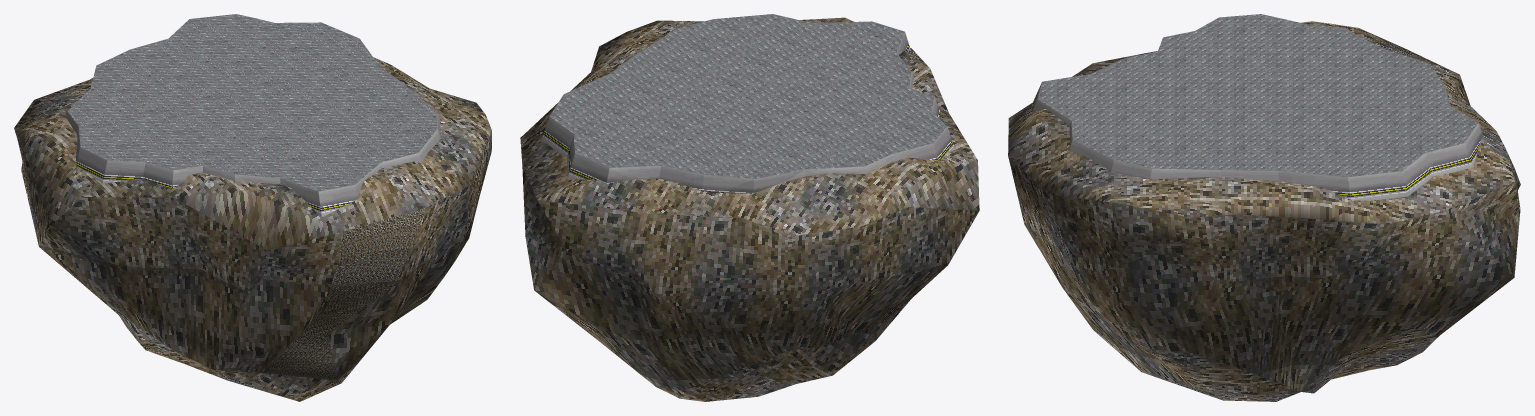
File: AsteroidCorpX.glb
3 renders of one model, left to right at view 1: azimuth 30°, elevation 25°; view 2: azimuth 150°, elevation 25°; view 3: azimuth 270°, elevation 25°, orthographic. The views are drawn at different scales.
Visible parts, largest first — view 1: AsteroidCorpX; view 2: AsteroidCorpX; view 3: AsteroidCorpX.
Boxes of the visible parts, <box> form: AsteroidCorpX: <box>14,14,491,401</box>; AsteroidCorpX: <box>520,14,979,401</box>; AsteroidCorpX: <box>1008,14,1520,401</box>.
Size of the model in its own units: 143 by 95.66 by 152.
5 materials, 5 textured.
